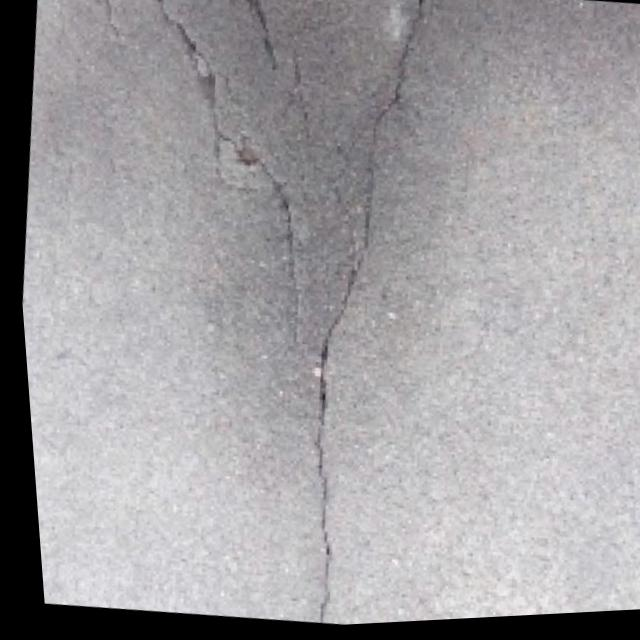Crack: (227, 0, 493, 631), (27, 0, 351, 310)
